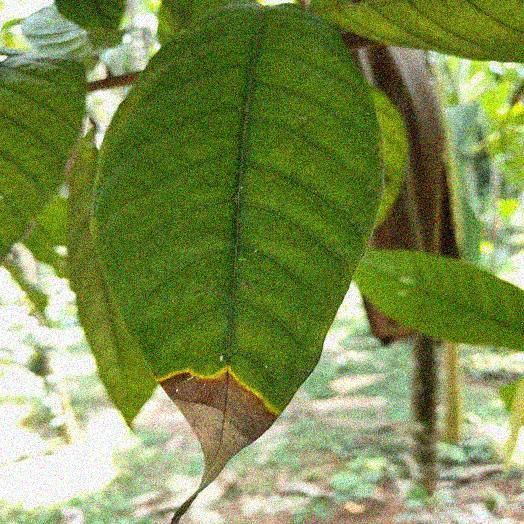Potassium: (94, 4, 381, 483)
